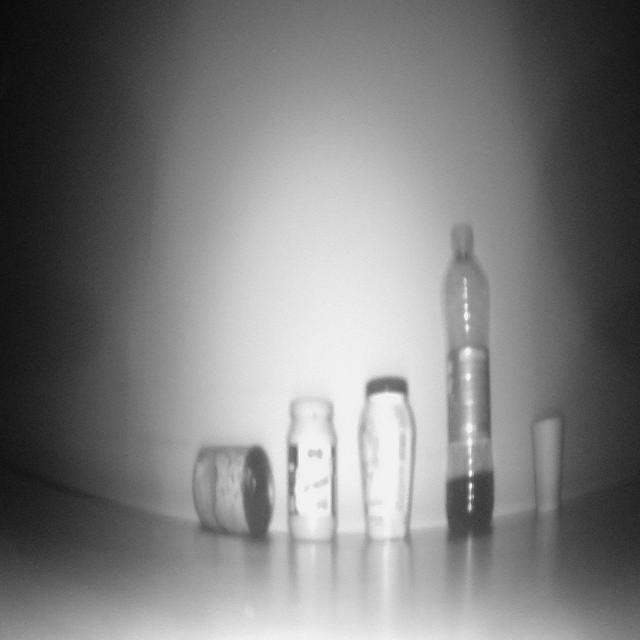targets: (443, 219, 492, 535), (358, 379, 414, 547), (286, 398, 338, 544), (192, 444, 275, 532), (531, 413, 564, 514)
